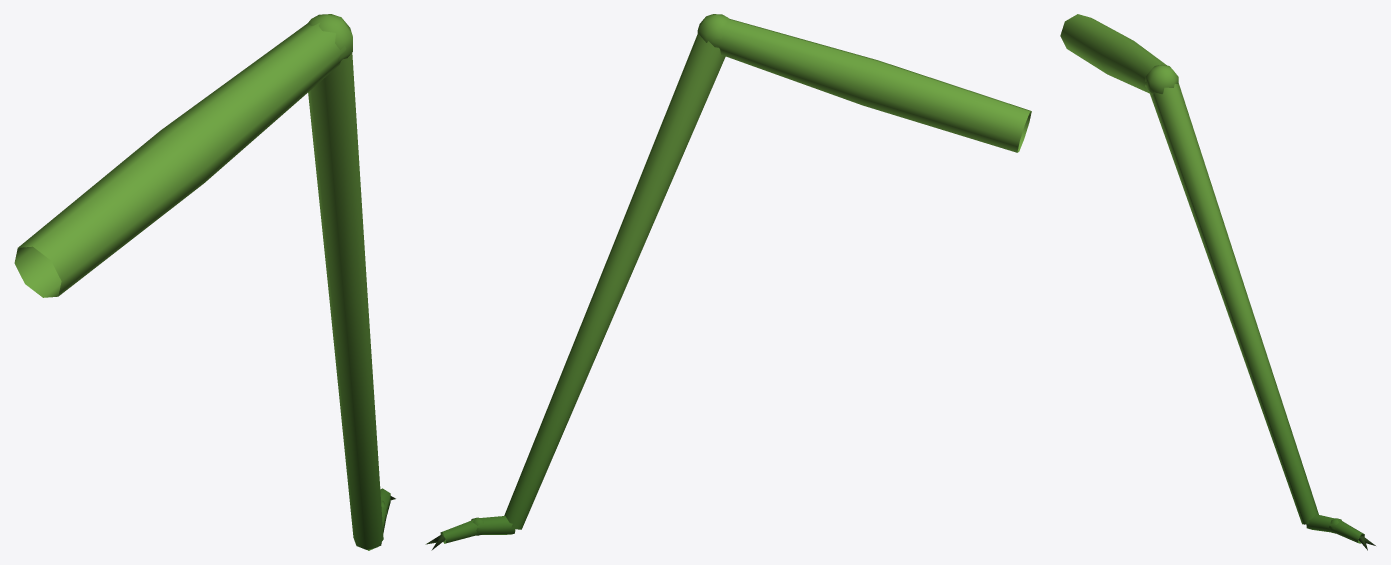
File: Mantis_Leg1.fbx
3 renders of one model, left to right at view 1: azimuth 30°, elevation 25°; view 2: azimuth 150°, elevation 25°; view 3: azimuth 270°, elevation 25°, orthographic. The views are drawn at different scales.
Parts seen in each view (by area): view 1: Mantis_Leg1; view 2: Mantis_Leg1; view 3: Mantis_Leg1.
Part boxes in pixels (left/top/right/bottom): Mantis_Leg1: left=14, top=14, right=395, bottom=550; Mantis_Leg1: left=425, top=14, right=1031, bottom=550; Mantis_Leg1: left=1060, top=14, right=1375, bottom=550.
Size of the model in its own units: 0.5232 by 0.5521 by 0.3819.
